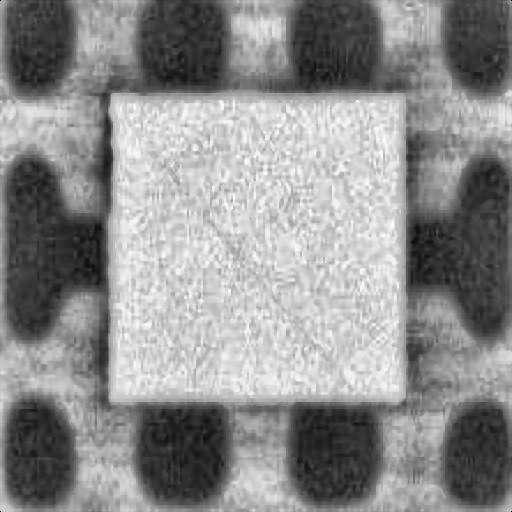DIE_CRACK: (196, 86, 512, 258)
